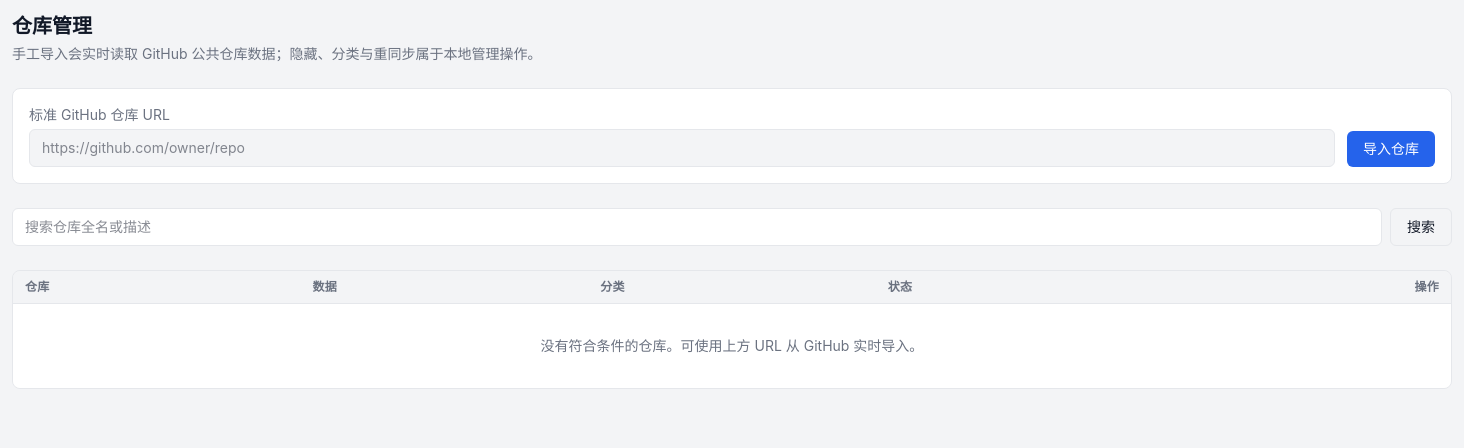
Test: AdminRepositoriesPage › imports a real GitHub URL and reloads the authoritative first page
The image size is (1464, 448).
Step 1. Type "https://github.com/acme/radar" into the field with test id "import-url" → x=682, y=148, box 29,129 -> 1335,167
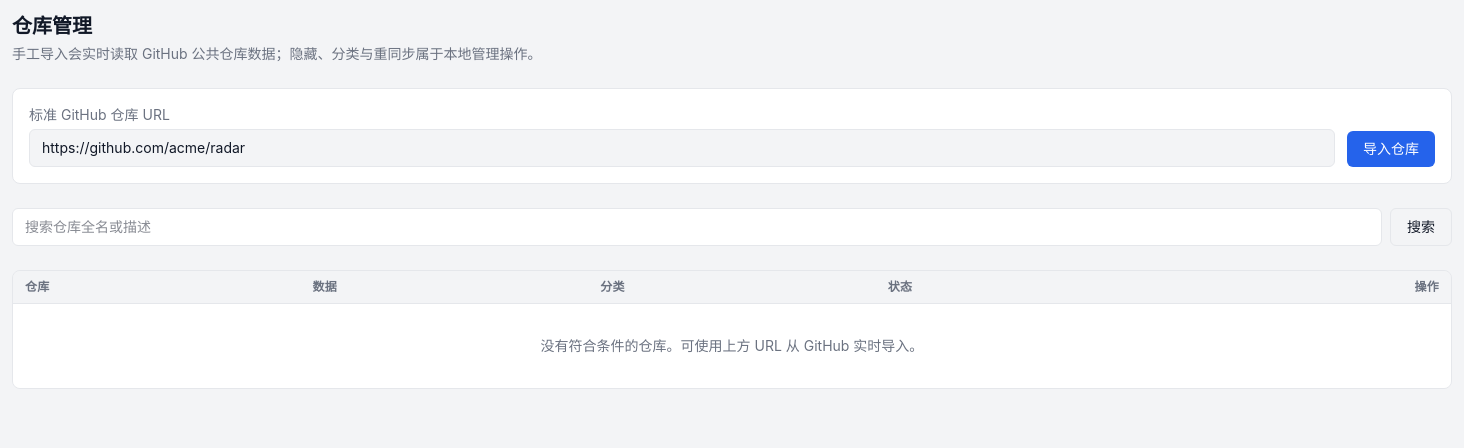
Step 2. Submit the form with test id "import-form", box 12,88 -> 1452,184
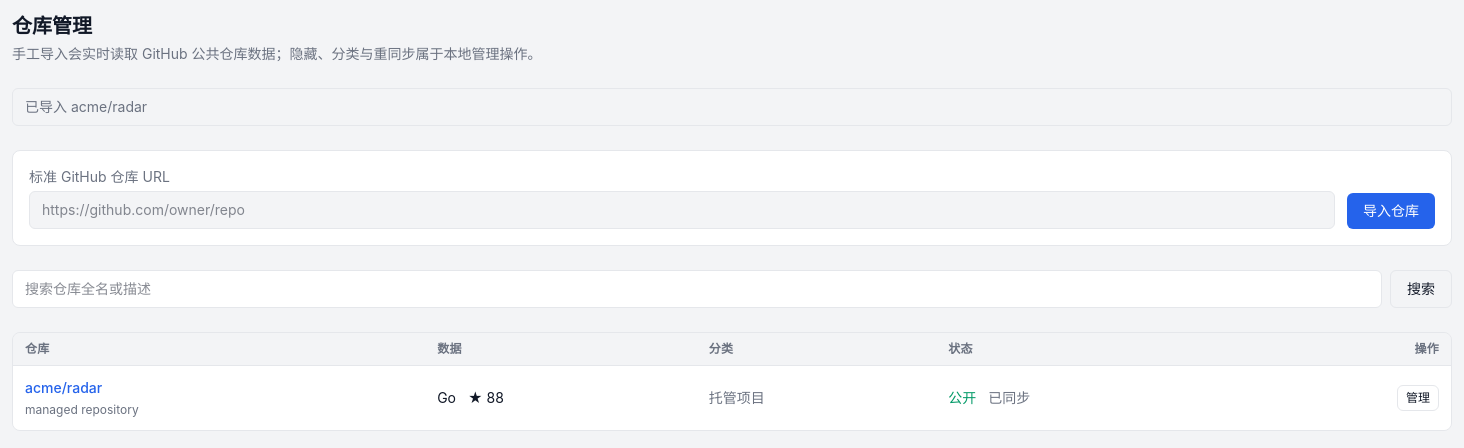
Now the row with test id "repo-row-9" is shown, box 13,366 -> 1451,430
Now the text "已导入 acme/radar" is shown, box 12,88 -> 1452,126
